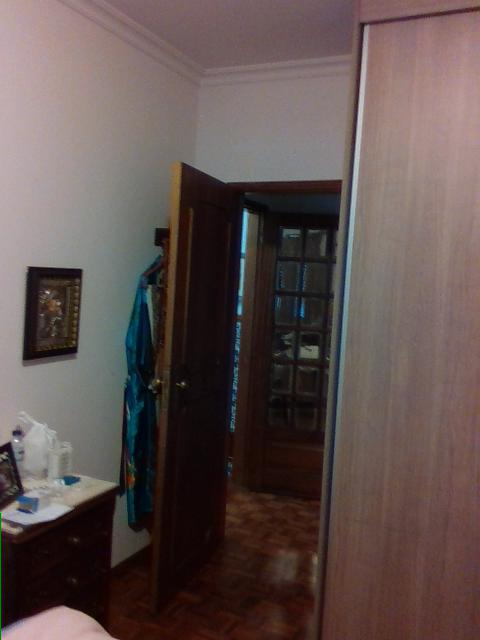door: (148, 161, 237, 619)
